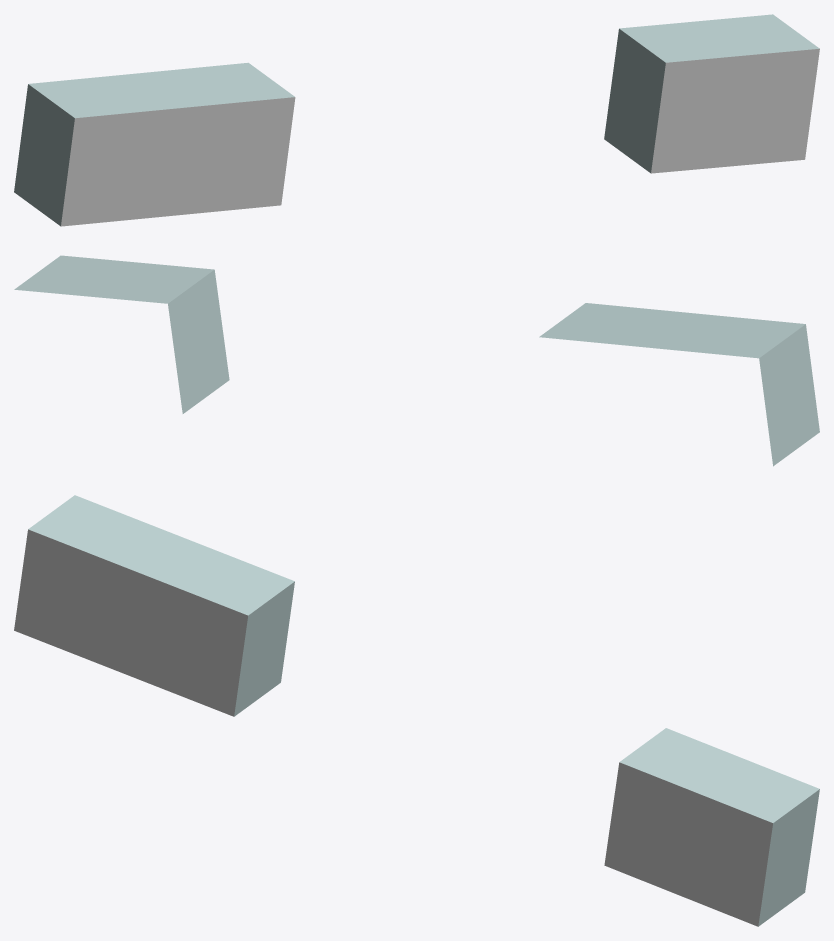
3 views of the same model, one above another, from view 1: azimuth 30°, elevation 25°; view 2: azimuth 150°, elevation 25°; view 3: azimuth 330°, elevation 25° (orthographic).
Parts seen in each view (by area): view 1: 0_3_2_2_2_1_1_1_1; view 2: 0_3_2_2_2_1_1_1_1; view 3: 0_3_2_2_2_1_1_1_1.
Part boxes in pixels (x1,y1,x2,y2): 0_3_2_2_2_1_1_1_1: (14,14,819,226); 0_3_2_2_2_1_1_1_1: (14,255,819,466); 0_3_2_2_2_1_1_1_1: (14,495,819,926).
Bounding box in the file's own units: 28.05 × 7.77 × 3.04.
